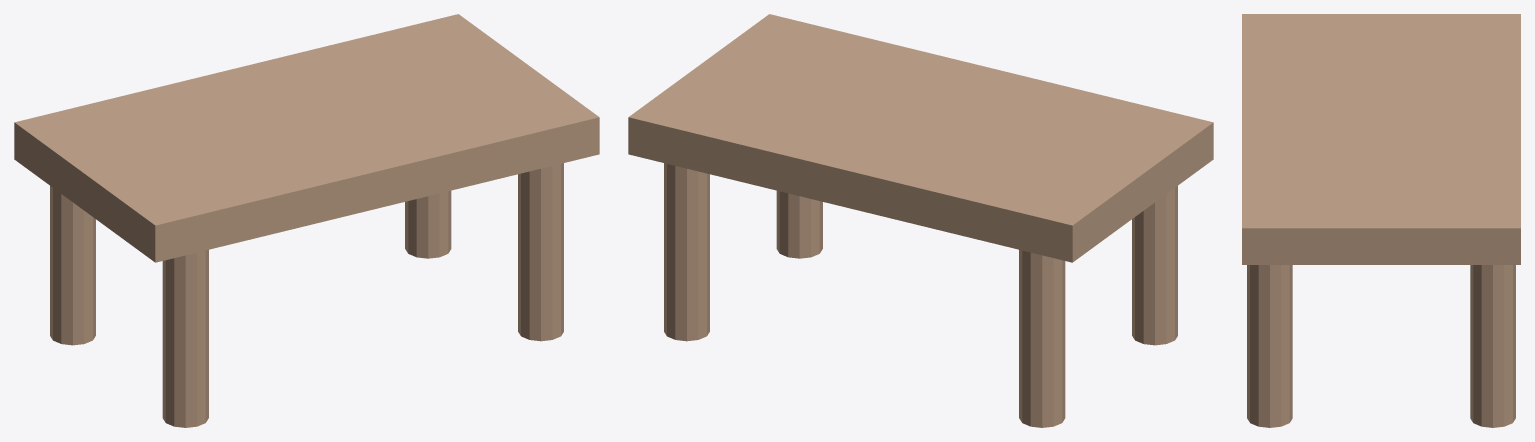
File: coffee_table.glb
3 views of the same model, side by side, from view 1: azimuth 30°, elevation 25°; view 2: azimuth 150°, elevation 25°; view 3: azimuth 270°, elevation 25° (orthographic).
Visible parts, largest first — view 1: coffee_table_000, coffee_table_001, coffee_table_003, coffee_table_002, coffee_table_004; view 2: coffee_table_000, coffee_table_002, coffee_table_004, coffee_table_001, coffee_table_003; view 3: coffee_table_000, coffee_table_003, coffee_table_004.
Boxes of the visible parts, x1,y1,x2,y2 form: coffee_table_000: [14, 14, 599, 262]; coffee_table_001: [162, 250, 208, 427]; coffee_table_003: [518, 163, 563, 341]; coffee_table_002: [50, 186, 95, 345]; coffee_table_004: [405, 190, 451, 258]; coffee_table_000: [628, 14, 1213, 262]; coffee_table_002: [1019, 250, 1065, 427]; coffee_table_004: [664, 163, 709, 341]; coffee_table_001: [1132, 186, 1177, 345]; coffee_table_003: [776, 190, 822, 258]; coffee_table_000: [1242, 14, 1520, 264]; coffee_table_003: [1247, 265, 1292, 427]; coffee_table_004: [1470, 265, 1515, 427].
Bounding box in the file's own units: 1 × 0.46 × 0.55.
